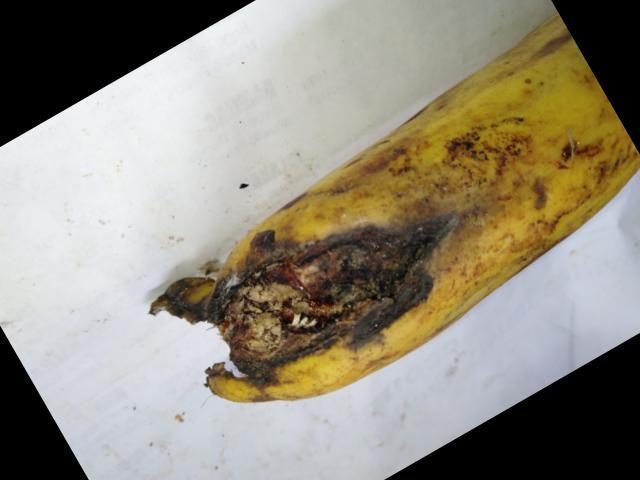ripe: (166, 16, 624, 415)
rotten: (128, 193, 474, 397)
